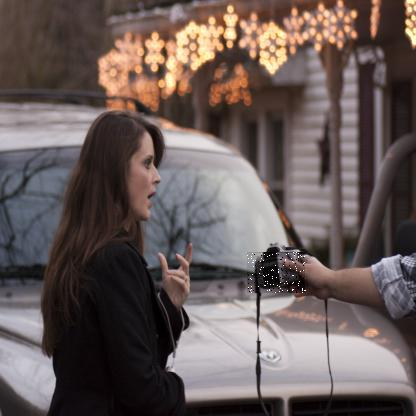Camera: (249, 253, 309, 295)
